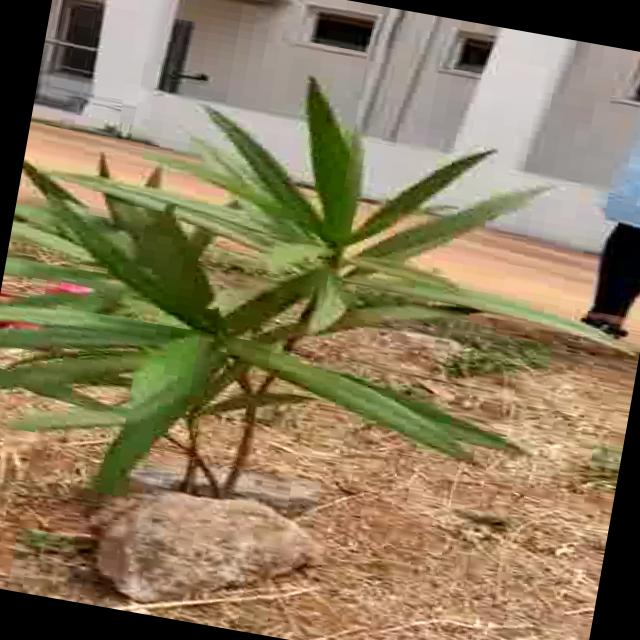OLEANDER: (0, 30, 640, 539)
